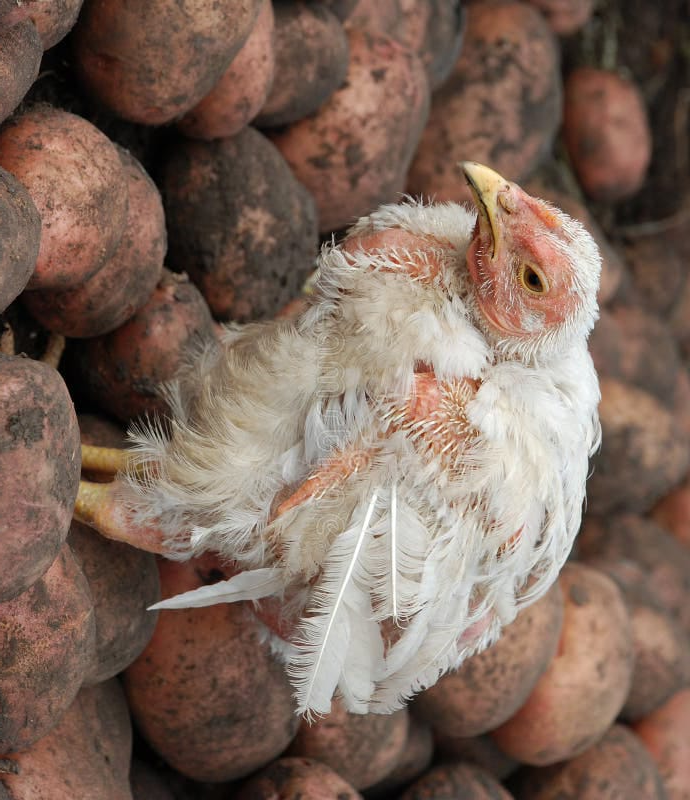Unhealthy: (66, 139, 614, 721)
